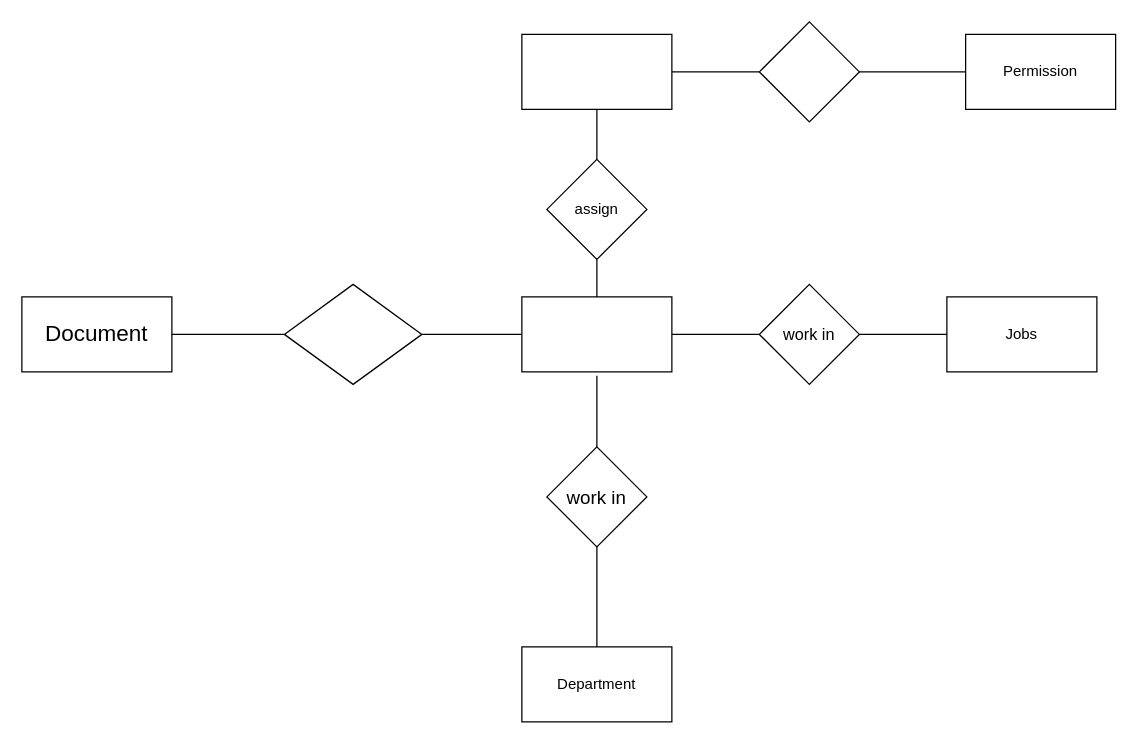
This 1138x744 diagram has some shape labels left out. The centre of each missing label's shape, as x and y in pixels:
access: the point at 808,71
Employee: the point at 596,334
Roles: the point at 596,71
Stores: the point at 352,333
